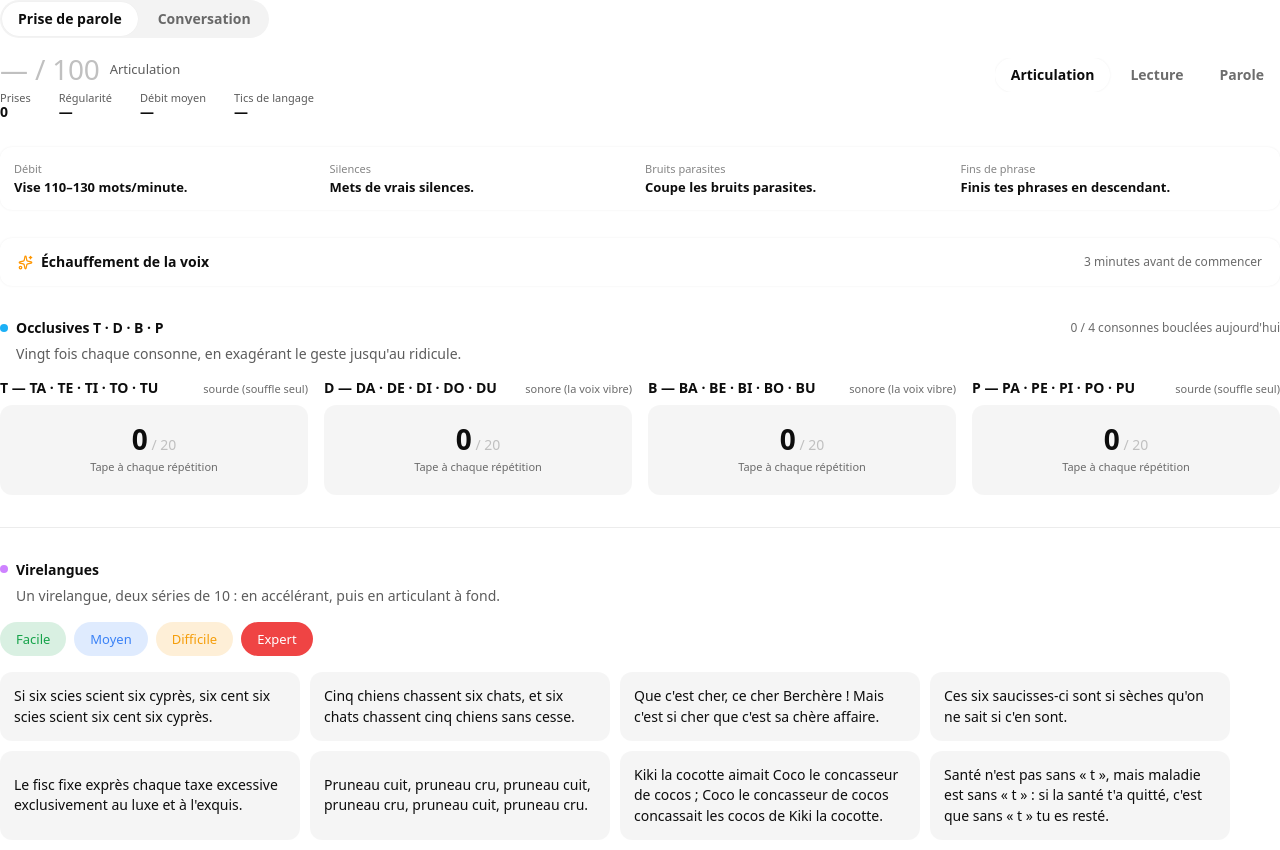
Page Éloquence › bascule le format « mot interdit » avec sa liste de tics à bannir
Click the button "Parole".
click(1242, 75)  # box [1204, 58, 1279, 92]
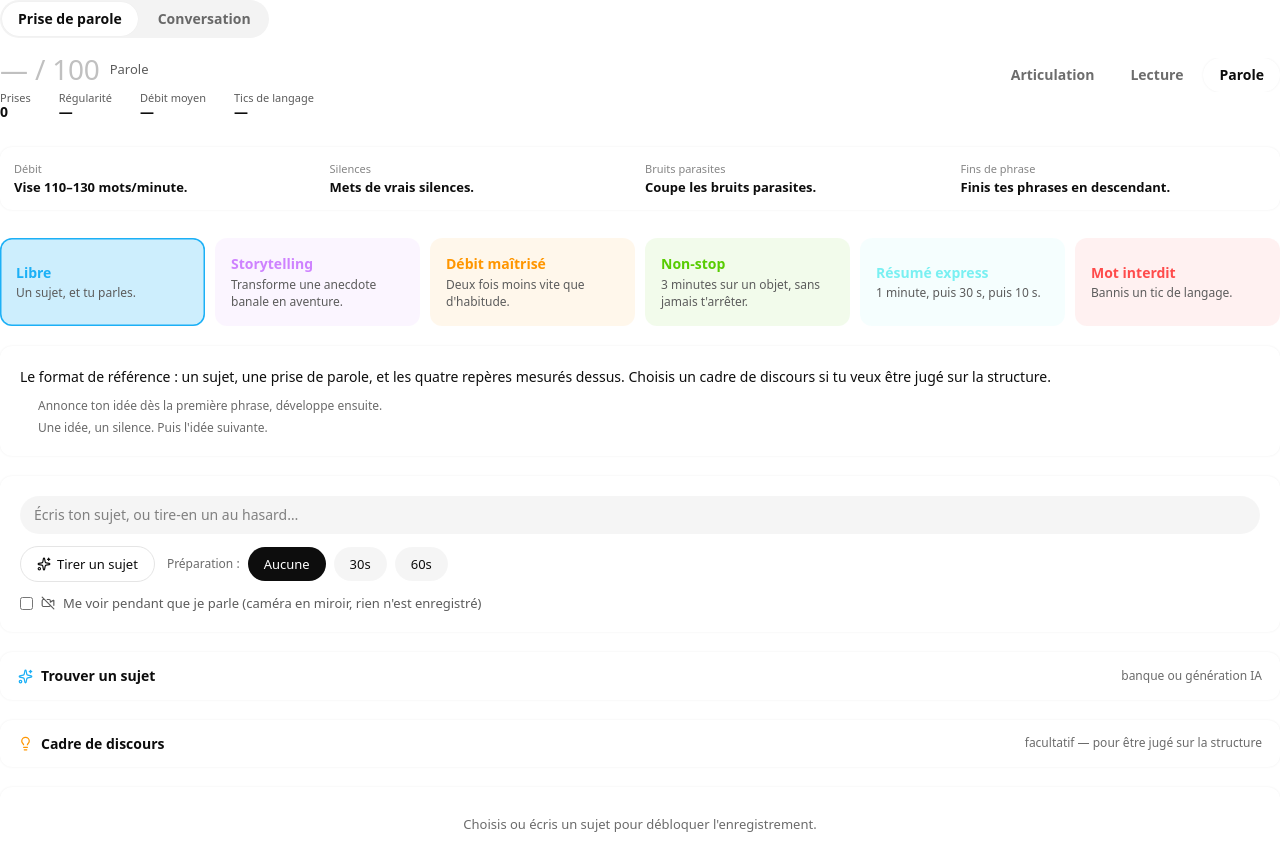
Click the text "Bannis un tic de langage.".
click(1162, 293)  # box [1091, 284, 1233, 301]
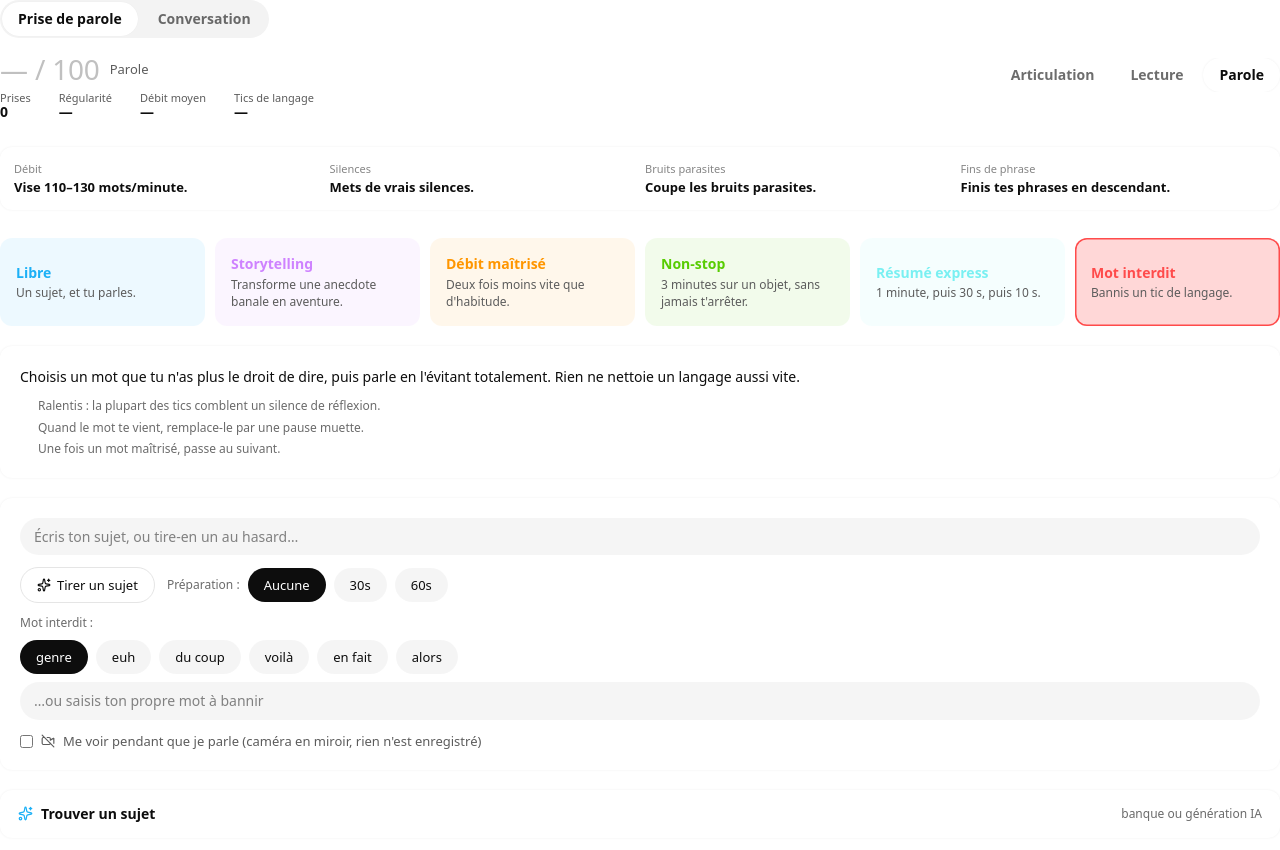
expect the text "Mot interdit :" is shown: met, box [20, 614, 93, 631]
expect the button "du coup" is shown: met, box [159, 640, 241, 674]
expect the field with placeholder "…ou saisis ton propre mot à bannir" is shown: met, box [20, 682, 1260, 720]
